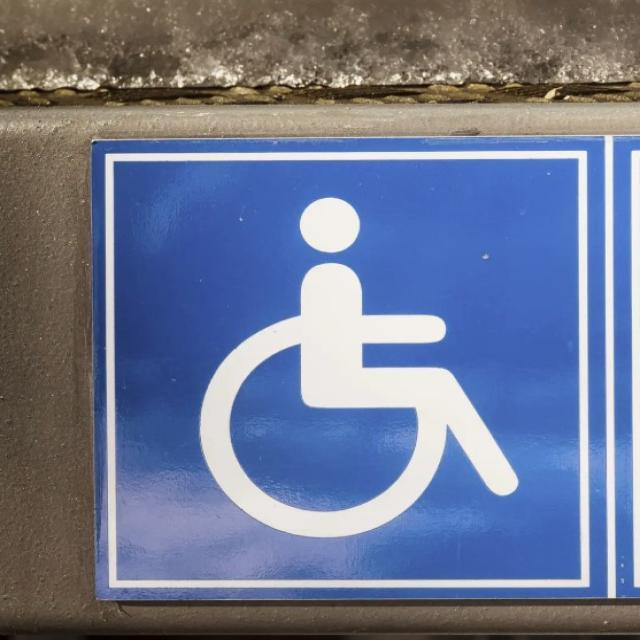symbol_of_access: (87, 136, 609, 598)
